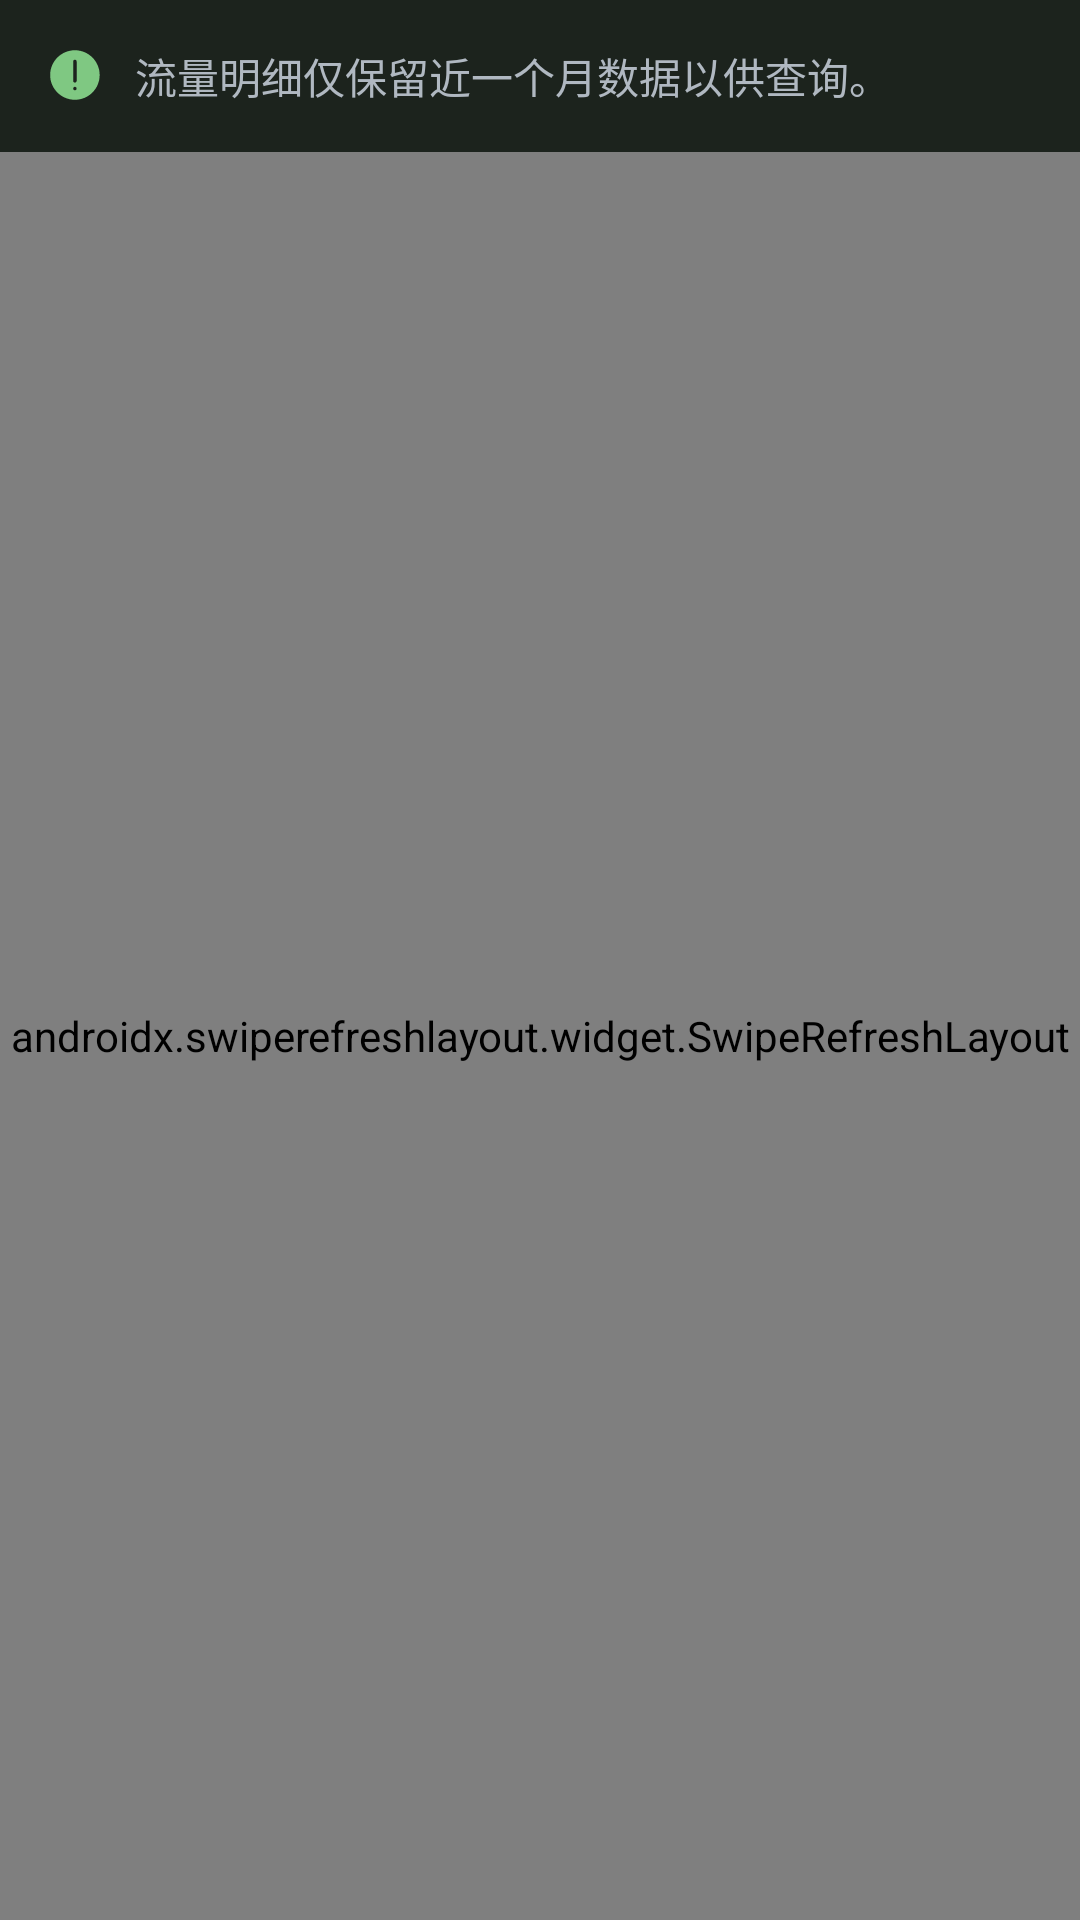

Screen size 1080*1920. Icon name, then its center in pixels as (x=x, y=y):
attention: (x=75, y=75)
